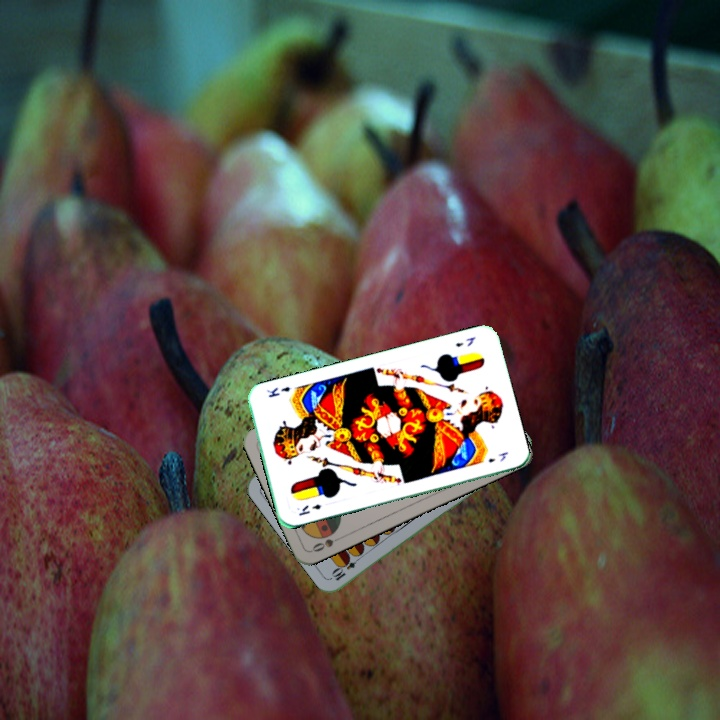E10: (328, 551, 364, 583)
EK: (295, 500, 324, 518), (452, 333, 478, 349)
SO: (308, 532, 346, 554)
